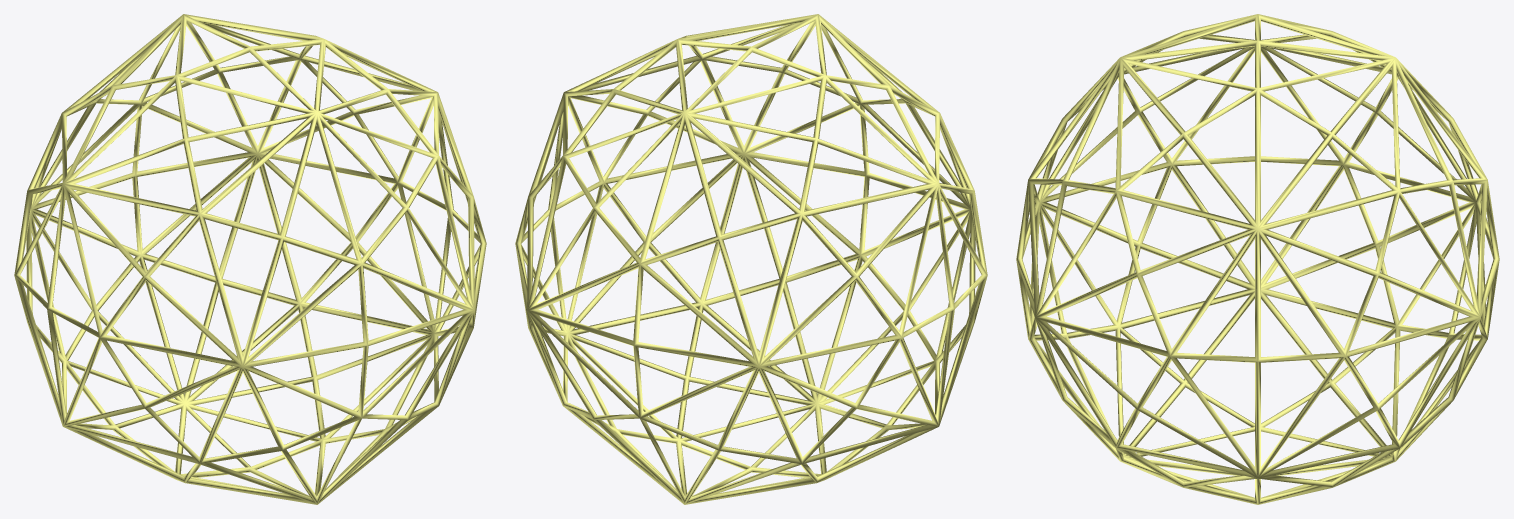
The model's file is DisdyakisTriacontahedron2.glb.
The picture shows the model from 3 angles, left to right: view 1: azimuth 30°, elevation 25°; view 2: azimuth 150°, elevation 25°; view 3: azimuth 270°, elevation 25°; orthographic projection. The views are drawn at different scales.
Parts seen in each view (by area): view 1: DisdyakisTriacontahedron; view 2: DisdyakisTriacontahedron; view 3: DisdyakisTriacontahedron.
Boxes of the visible parts, x1,y1,x2,y2 form: DisdyakisTriacontahedron: (14, 14, 486, 504); DisdyakisTriacontahedron: (515, 14, 987, 504); DisdyakisTriacontahedron: (1016, 14, 1499, 504).
Bounding box in the file's own units: 7.71 × 7.71 × 7.71.
